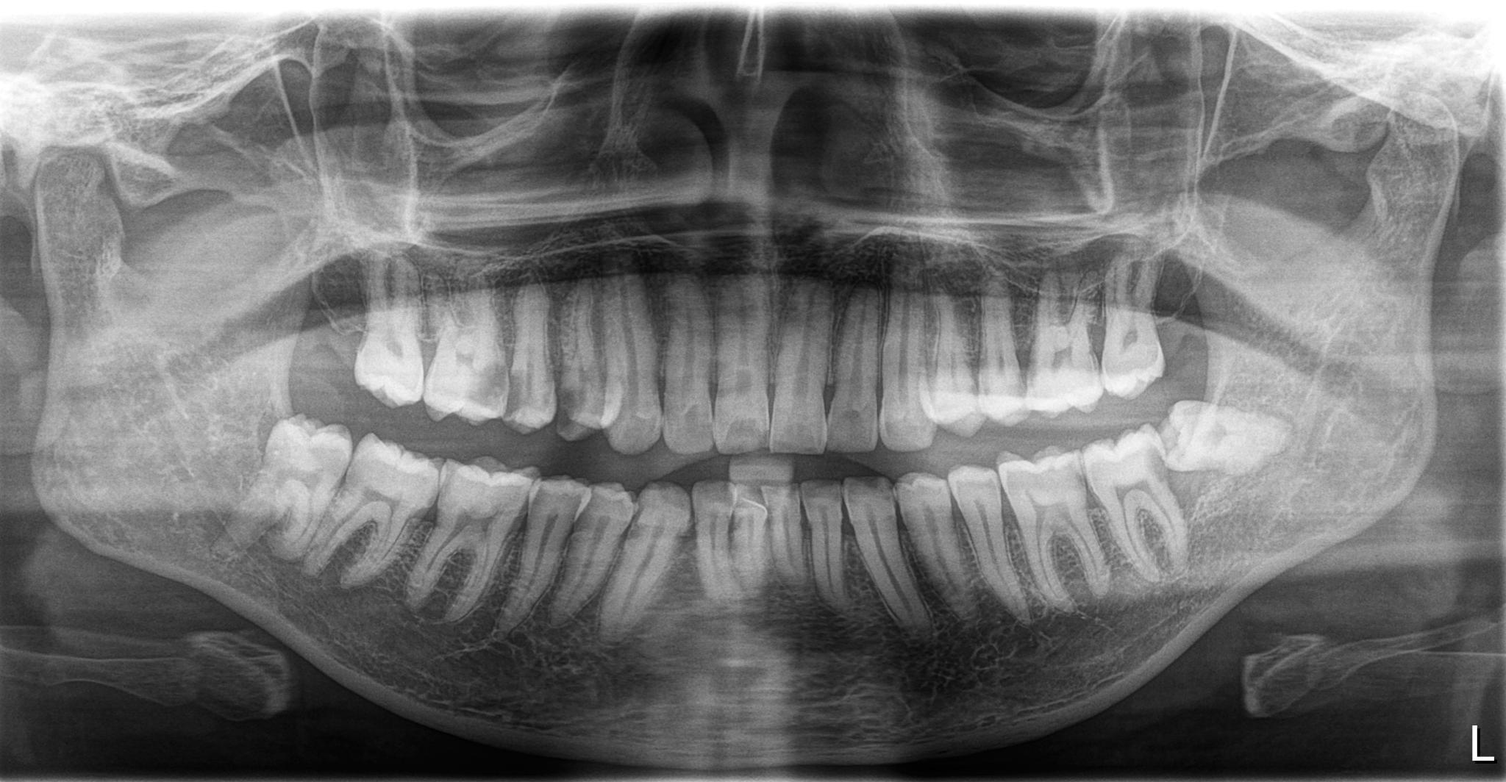Dental Caries: (452, 356, 614, 422)
Impacted Third Molar: (1167, 401, 1304, 472)
Missing Tooth: (1151, 272, 1220, 382), (301, 265, 361, 378)
